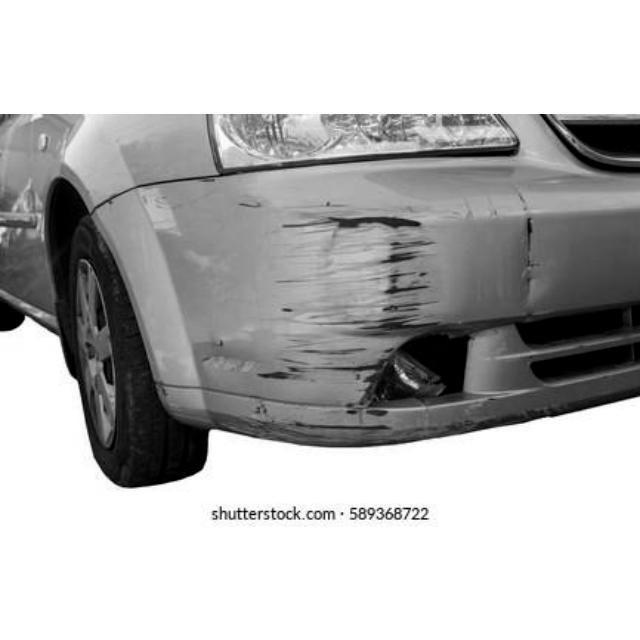front-bumper-dent: (76, 166, 639, 443)
